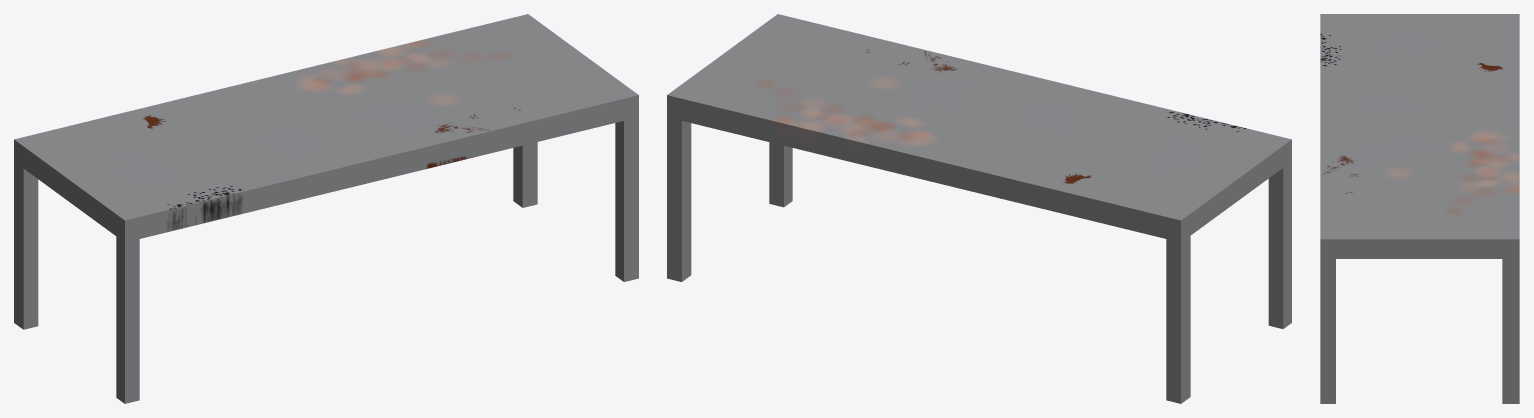
Rendered from Table_1_Textured.fbx.
3 views of the same model, side by side, from view 1: azimuth 30°, elevation 25°; view 2: azimuth 150°, elevation 25°; view 3: azimuth 270°, elevation 25° (orthographic). The views are drawn at different scales.
Visible parts, largest first — view 1: pCube3; view 2: pCube3; view 3: pCube3.
Boxes of the visible parts, x1=… form: pCube3: x1=14, y1=14, x2=638, y2=403; pCube3: x1=667, y1=14, x2=1291, y2=403; pCube3: x1=1320, y1=14, x2=1519, y2=403.
Size of the model in its own units: 32.7 by 11.15 by 12.21.
